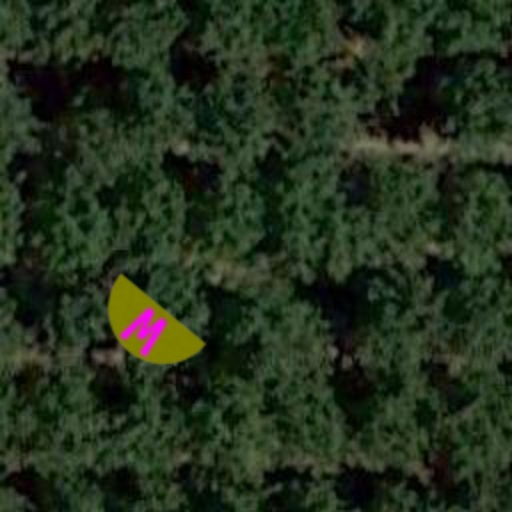semicircle: (66, 250, 226, 410)
